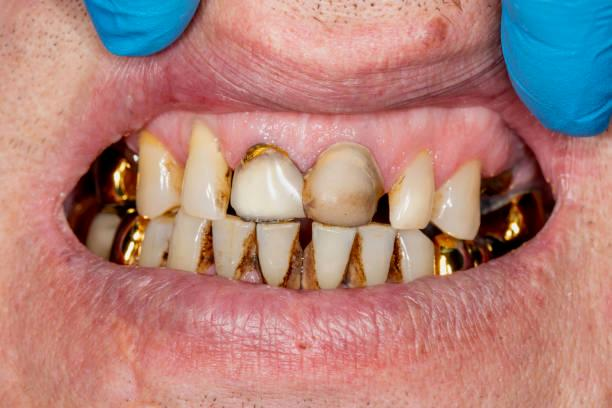Calculus: (232, 140, 307, 216), (257, 224, 311, 293), (304, 223, 359, 287), (208, 214, 258, 276), (173, 210, 213, 271)
Discoloration: (299, 139, 385, 226)
